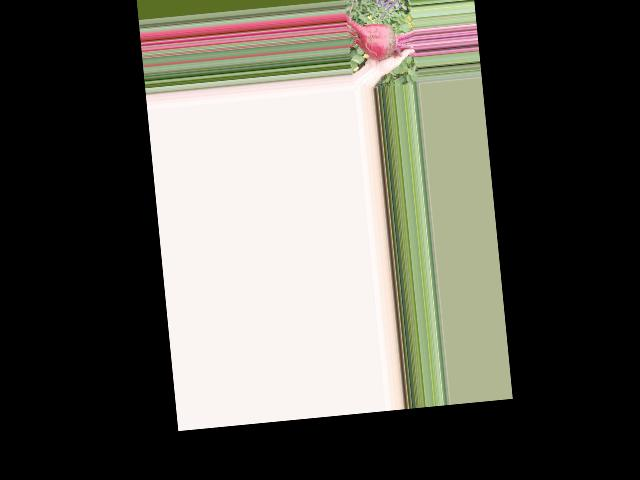beet: (345, 7, 416, 62)
